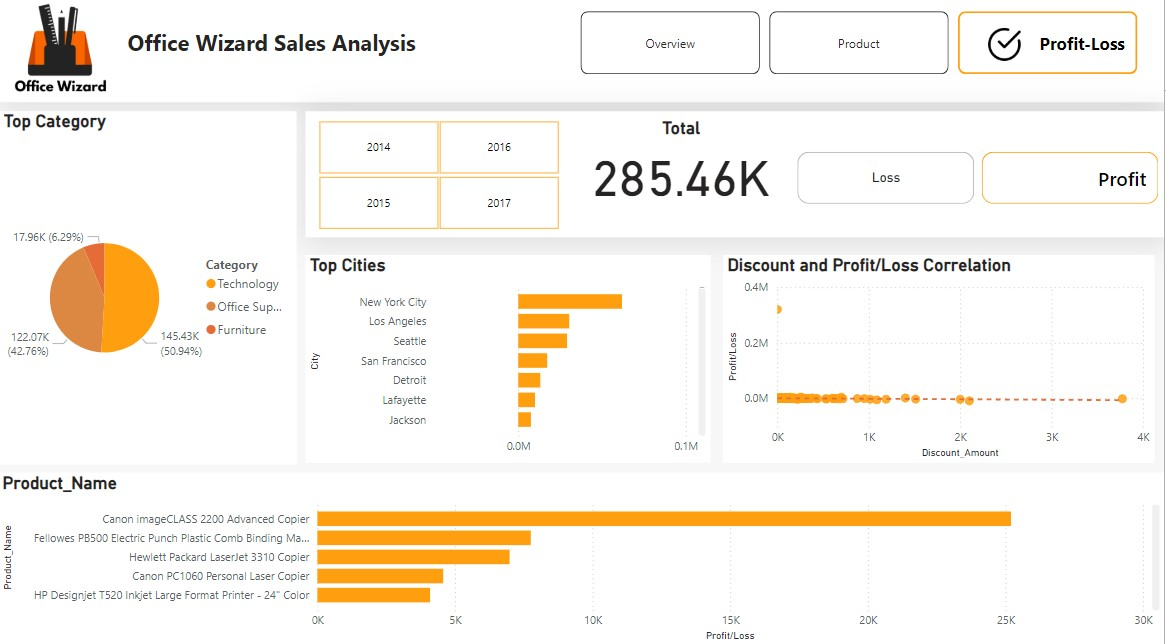

This screenshot's page, from the dashboard's own definition file:
{"tool":"powerbi","page":{"name":"Profit-Loss","canvas":[1280,720],"ordinal":2},"visuals":[{"type":"shape","box":[0,10,1280.3,113.9],"z":0},{"type":"image","box":[0,0,137.2,123.5],"z":1000},{"type":"pageNavigator","box":[639.5,23.3,613.4,70],"z":2000},{"type":"shape","box":[337.6,133.1,942.7,138.6],"z":3000},{"type":"image","box":[1067.6,32.9,74.1,53.5],"z":4000},{"type":"advancedSlicerVisual","fields":{"Values":["Profit_Loss_Option.Name"]},"box":[872.7,172.9,407.5,67.2],"z":5000},{"type":"slicer","fields":{"Values":["Sheet1.Date.Variation.Date Hierarchy.Year"]},"box":[326.6,137.2,312.9,131.7],"z":6000},{"type":"card","title":"Total","fields":{"Values":["Sheet1.Profit/Loss"]},"box":[639.5,140,220.9,100.2],"z":7000},{"type":"barChart","title":"Product_Name","fields":{"Category":["Sheet1.Product_Name"],"Y":["Sheet1.Profit/Loss"]},"box":[0,529.7,1280.3,190.7],"z":8000},{"type":"scatterChart","title":" Discount and Profit/Loss Correlation","fields":{"Y":["Sheet1.Profit/Loss"],"X":["Sheet1.Discount_Amount"]},"box":[795.9,290.9,473.4,227.8],"z":9000},{"type":"barChart","title":"Top Cities","fields":{"Category":["Sheet1.City"],"Y":["Sheet1.Profit/Loss"]},"box":[337.6,290.9,444.6,227.8],"z":10000},{"type":"pieChart","title":"Top Category","fields":{"Category":["Sheet1.Category"],"Y":["Sheet1.Profit/Loss"]},"box":[1.4,133.1,326.6,388.3],"z":11000},{"type":"textbox","box":[137.2,37,336.2,49.4],"z":12000}]}

Visuals, with their boxes in screenshot pixels (x1, y1, x2, y2), scaled from the page's 1280x720 canvas onto the 1166x644 screenshot:
shape: left=0, top=9, right=1165, bottom=111
image: left=0, top=0, right=125, bottom=110
pageNavigator: left=583, top=21, right=1141, bottom=83
shape: left=308, top=119, right=1165, bottom=243
image: left=973, top=29, right=1040, bottom=77
advancedSlicerVisual - Profit_Loss_Option.Name: left=795, top=155, right=1165, bottom=215
slicer - Sheet1.Date.Variation.Date Hierarchy.Year: left=298, top=123, right=583, bottom=241
"Total" card: left=583, top=125, right=784, bottom=215
"Product_Name" barChart: left=0, top=474, right=1165, bottom=643
" Discount and Profit/Loss Correlation" scatterChart: left=725, top=260, right=1156, bottom=464
"Top Cities" barChart: left=308, top=260, right=713, bottom=464
"Top Category" pieChart: left=1, top=119, right=299, bottom=466
textbox: left=125, top=33, right=431, bottom=77
